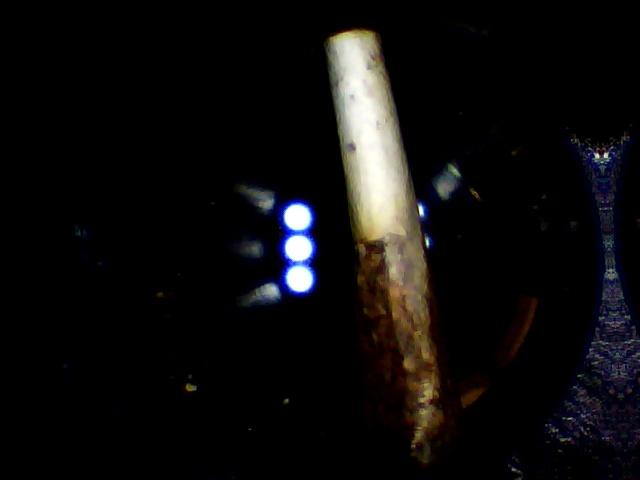megot: (319, 18, 451, 479)
